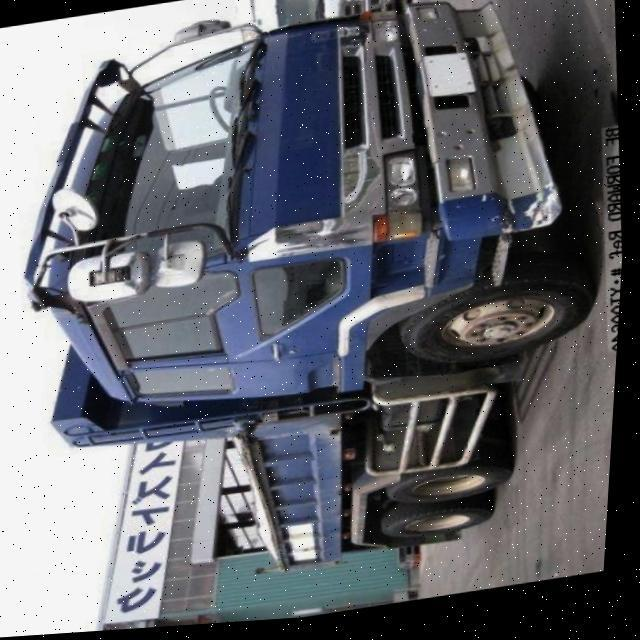truck: (0, 0, 632, 616)
